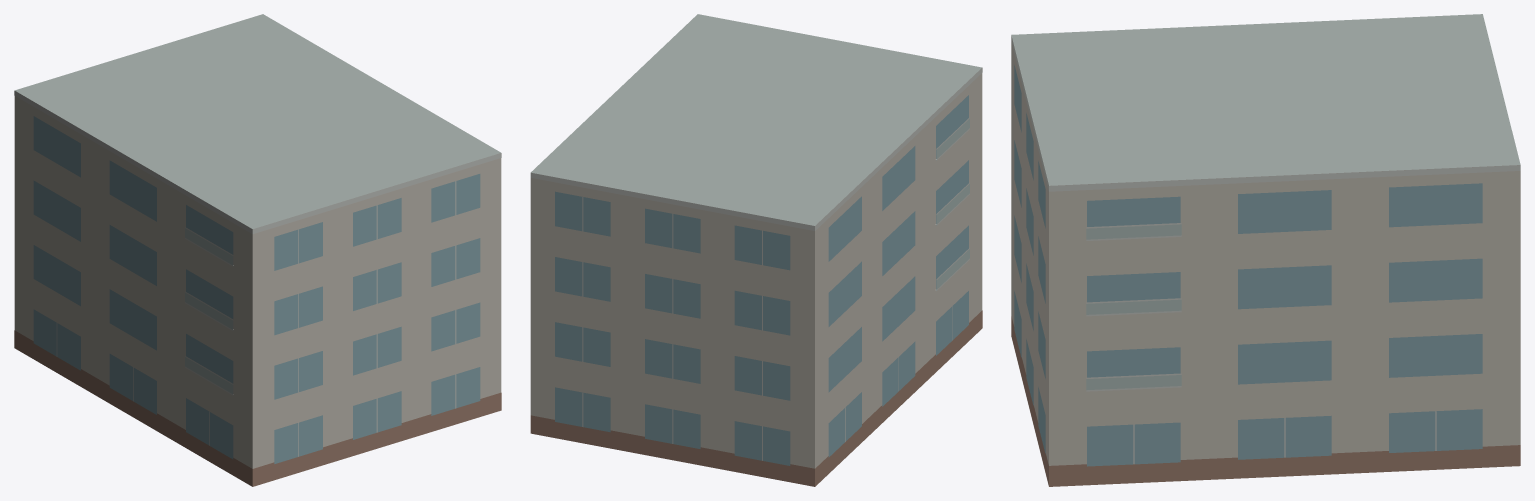
File: survey-upis-33020990.glb
3 views of the same model, side by side, from view 1: azimuth 30°, elevation 25°; view 2: azimuth 150°, elevation 25°; view 3: azimuth 270°, elevation 25° (orthographic). The views are drawn at different scales.
Parts seen in each view (by area): view 1: survey-upis-33020990.tmp; view 2: survey-upis-33020990.tmp; view 3: survey-upis-33020990.tmp.
Boxes of the visible parts, <box> form: survey-upis-33020990.tmp: <box>14,14,501,486</box>; survey-upis-33020990.tmp: <box>530,14,982,486</box>; survey-upis-33020990.tmp: <box>1011,14,1520,486</box>.
Bounding box in the file's own units: 15.19 × 12.4 × 19.02.
